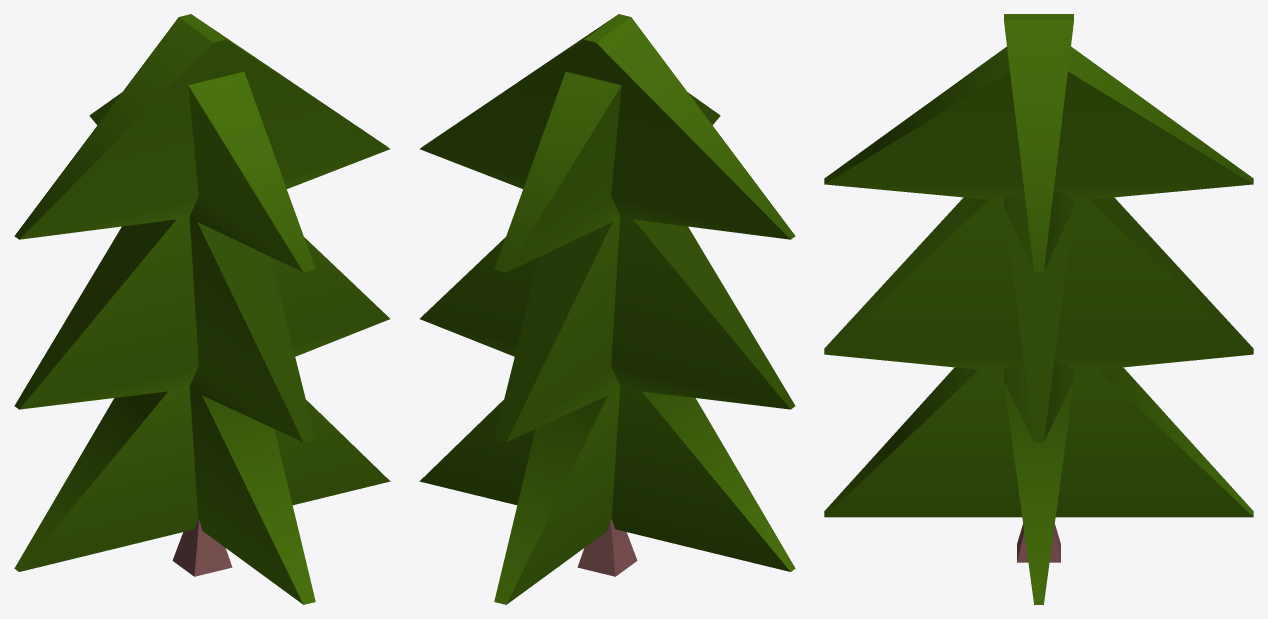
File: 048 Xmas_Tree.fbx
3 renders of one model, left to right at view 1: azimuth 30°, elevation 25°; view 2: azimuth 150°, elevation 25°; view 3: azimuth 270°, elevation 25°, orthographic.
Parts seen in each view (by area): view 1: Lowpoly_Christmas_Pack_048:pCube5; view 2: Lowpoly_Christmas_Pack_048:pCube5; view 3: Lowpoly_Christmas_Pack_048:pCube5.
Part boxes in pixels (left/top/right/bottom): Lowpoly_Christmas_Pack_048:pCube5: left=14, top=14, right=390, bottom=604; Lowpoly_Christmas_Pack_048:pCube5: left=419, top=14, right=795, bottom=604; Lowpoly_Christmas_Pack_048:pCube5: left=824, top=14, right=1253, bottom=604.
Size of the model in its own units: 2.17 by 2.99 by 2.17.
